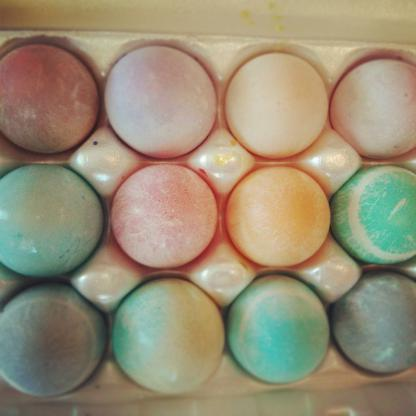Egg: (0, 42, 415, 399)
